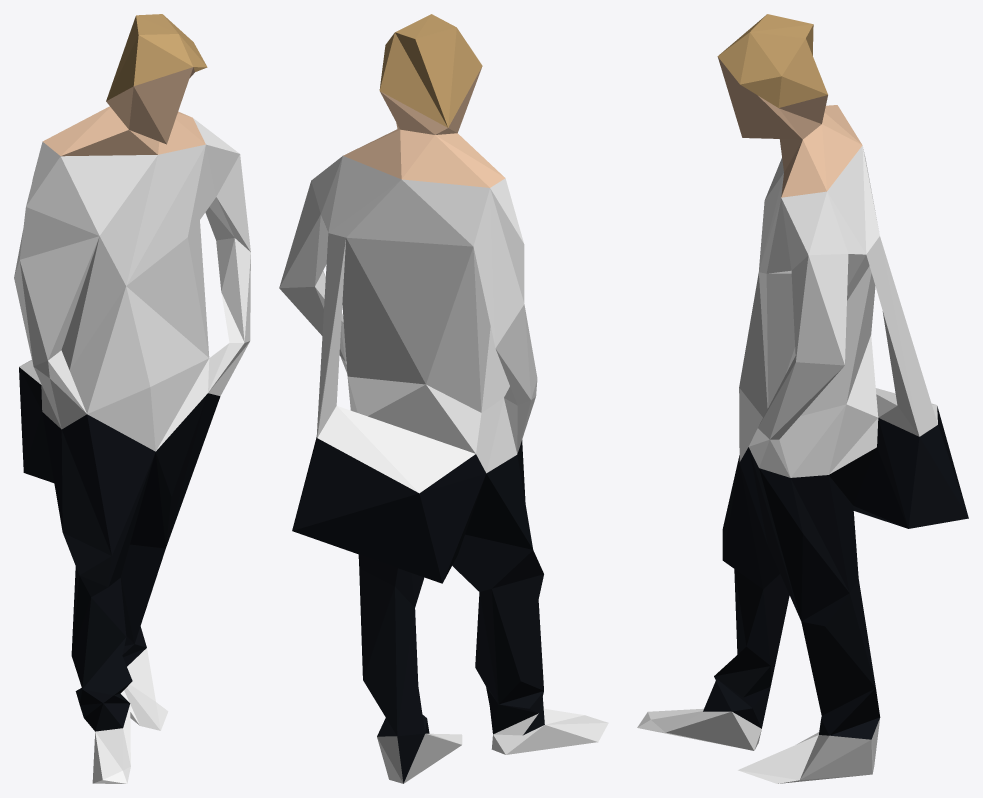
File: walker-21.glb
3 renders of one model, left to right at view 1: azimuth 30°, elevation 25°; view 2: azimuth 150°, elevation 25°; view 3: azimuth 270°, elevation 25°, orthographic. The views are drawn at different scales.
Parts seen in each view (by area): view 1: Man05; view 2: Man05; view 3: Man05.
Boxes of the visible parts, x1,y1,x2,y2 form: Man05: [14, 14, 250, 783]; Man05: [279, 14, 608, 783]; Man05: [637, 14, 968, 783].
Size of the model in its own units: 0.5444 by 1.6 by 0.6335.
